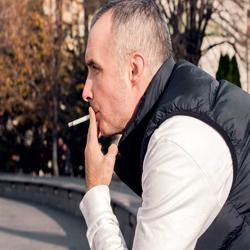smoking: (67, 106, 103, 129)
